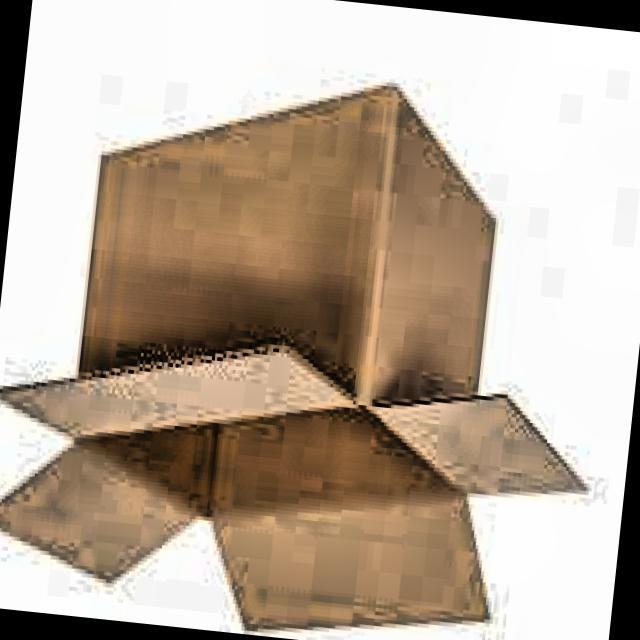cardboard: (0, 48, 627, 640)
